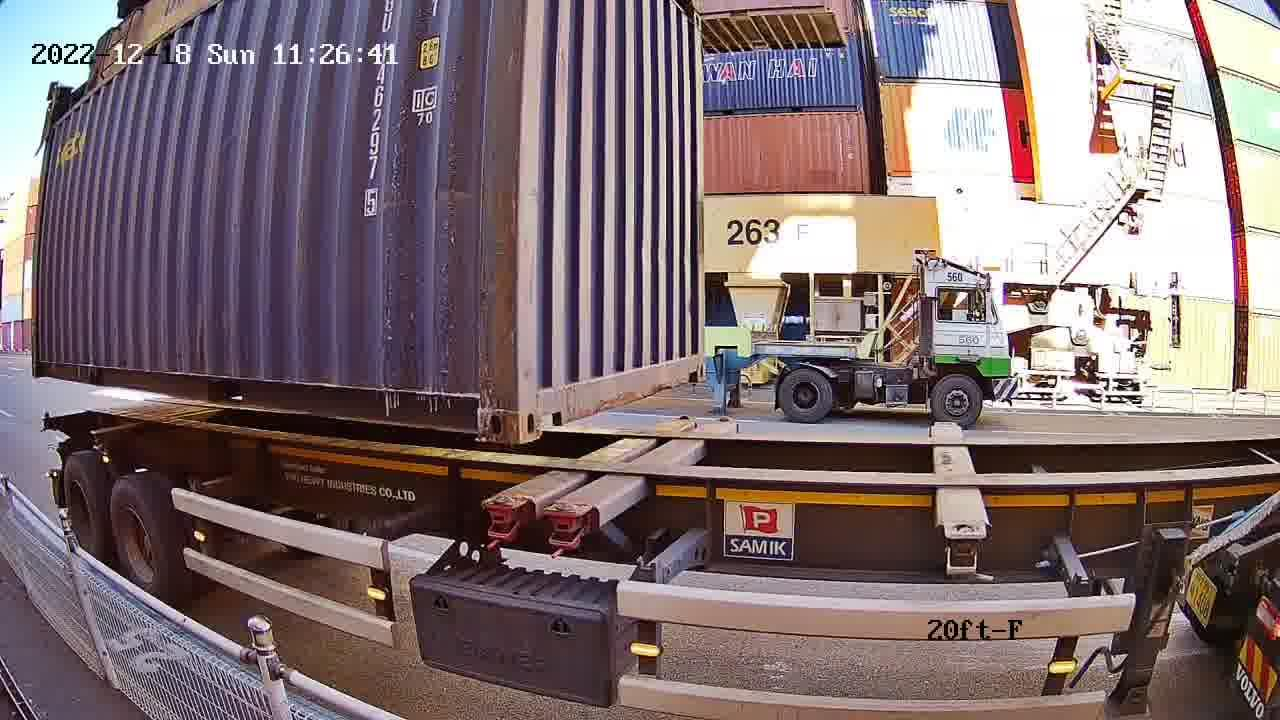Chassis: (482, 419, 694, 509), (546, 421, 734, 516)
Cone: (471, 497, 533, 558), (545, 505, 594, 559)
Hole_L: (515, 369, 573, 445)
Hole_R: (449, 368, 516, 447), (683, 335, 708, 382)
Tire: (108, 478, 179, 604), (59, 457, 109, 567)
